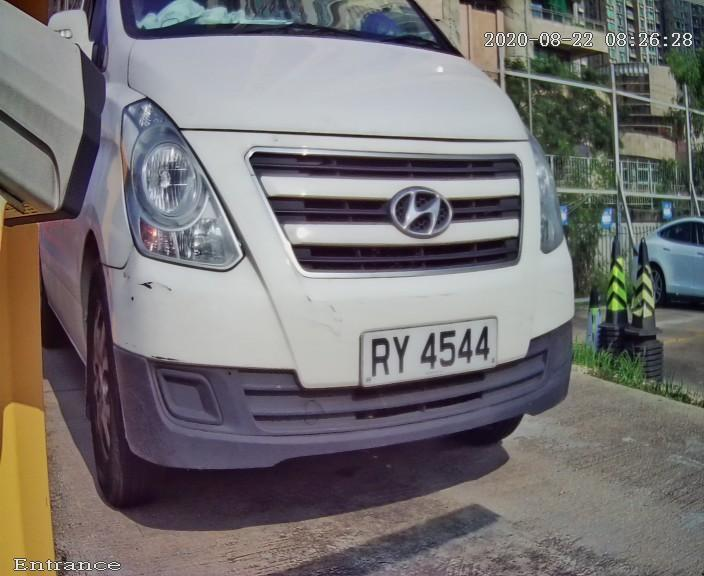Car: (19, 8, 607, 505)
License Plate: (336, 300, 505, 403)
